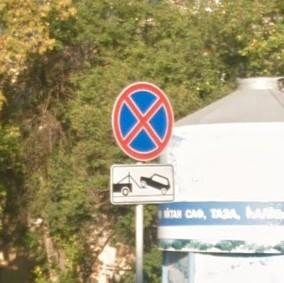No Parking: (111, 81, 176, 164)
